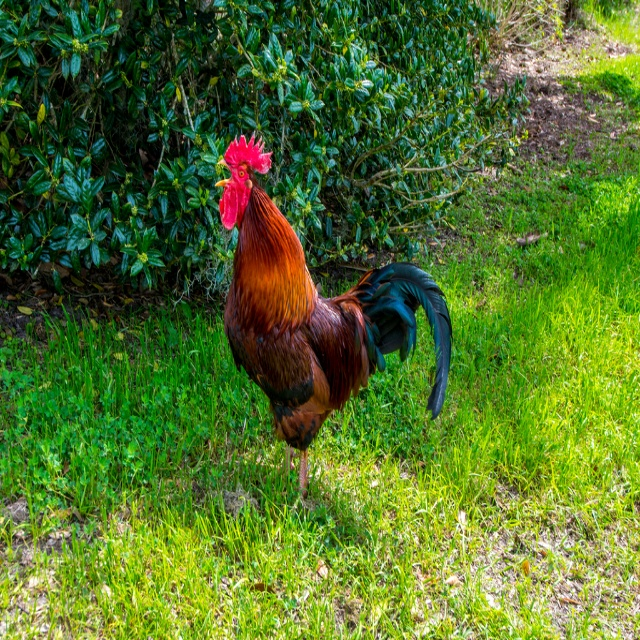Chicken: (215, 130, 456, 497)
